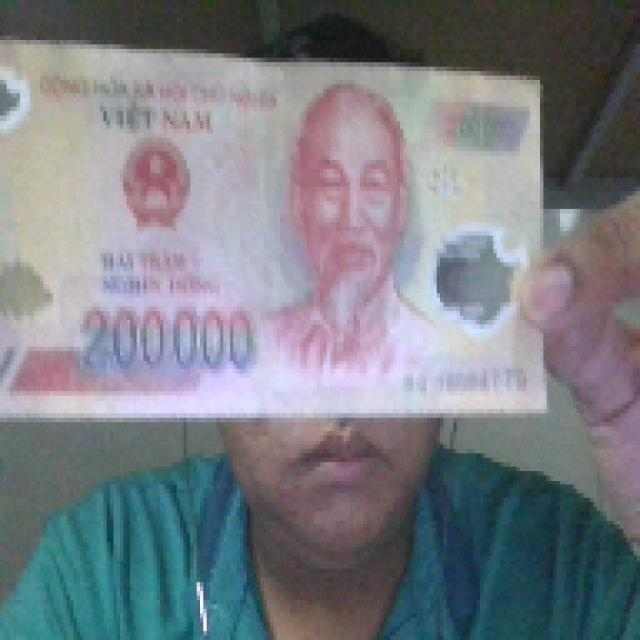200 000 VND: (1, 27, 555, 422)
